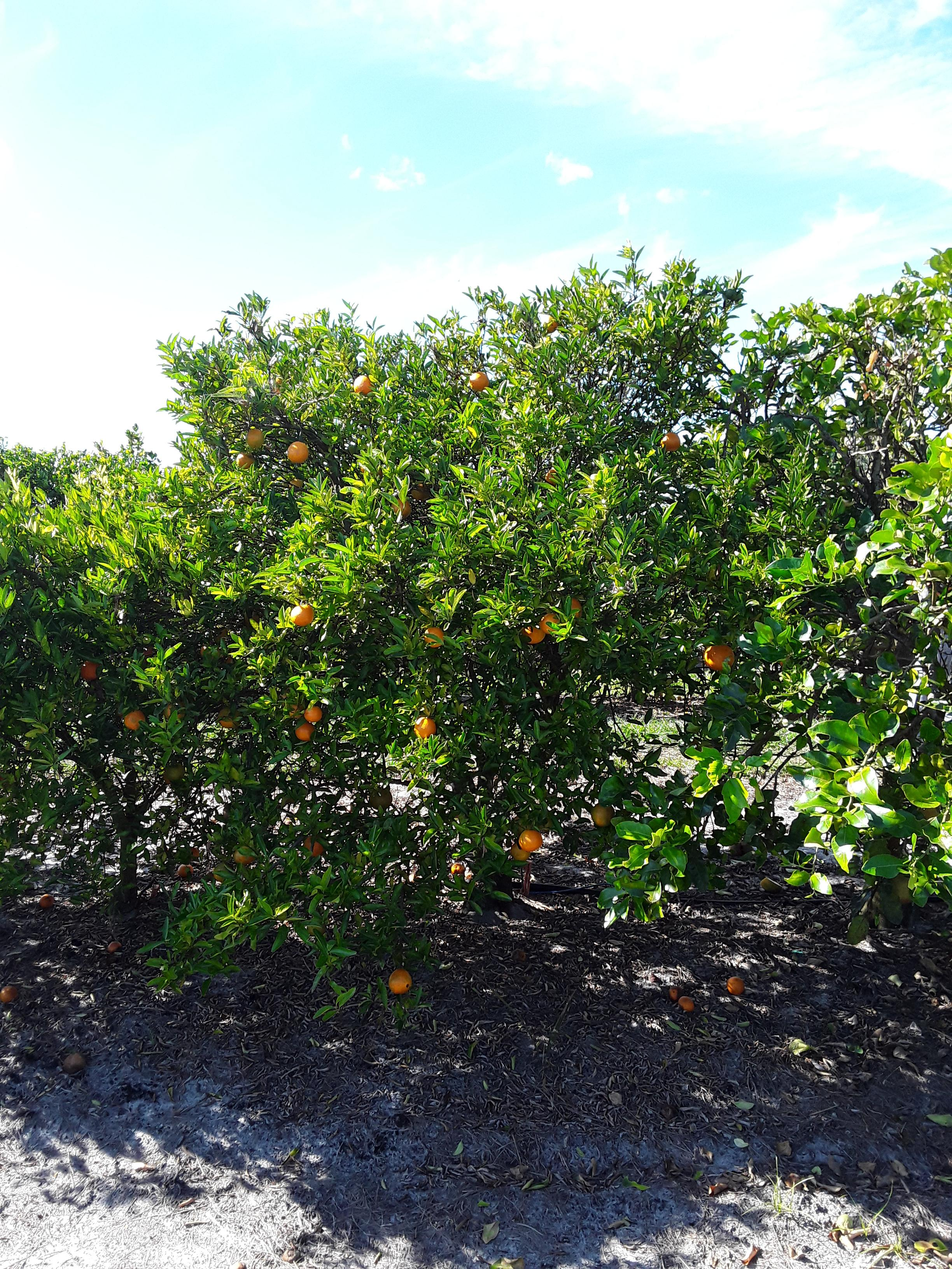fruit_on_ground: (887, 869, 929, 908), (701, 642, 736, 673), (588, 801, 617, 829), (158, 699, 189, 725), (387, 967, 414, 996), (366, 784, 395, 811), (517, 621, 545, 648), (77, 656, 104, 683), (411, 714, 439, 740), (420, 625, 447, 651), (289, 602, 316, 628), (212, 626, 238, 652), (518, 827, 544, 852), (558, 596, 584, 621), (540, 610, 565, 635), (122, 708, 147, 733), (285, 439, 310, 464), (301, 835, 326, 859), (161, 761, 187, 784), (211, 860, 235, 884), (658, 429, 682, 453), (232, 843, 257, 866), (244, 425, 267, 450), (350, 372, 374, 395), (509, 840, 532, 863), (392, 496, 415, 519), (467, 370, 491, 392), (216, 709, 239, 731), (409, 480, 432, 502), (541, 465, 564, 486), (294, 722, 317, 743), (196, 643, 220, 663), (539, 312, 560, 333), (302, 704, 324, 724), (235, 451, 256, 471), (138, 643, 160, 661), (286, 701, 305, 719), (289, 474, 309, 491), (175, 862, 194, 879), (183, 845, 200, 862)
fruit_on_tree: (61, 1050, 87, 1075), (758, 874, 783, 895), (725, 973, 746, 998), (0, 982, 19, 1005), (677, 994, 697, 1014), (37, 891, 57, 910), (665, 984, 683, 1003), (448, 861, 467, 878), (105, 938, 124, 954)
